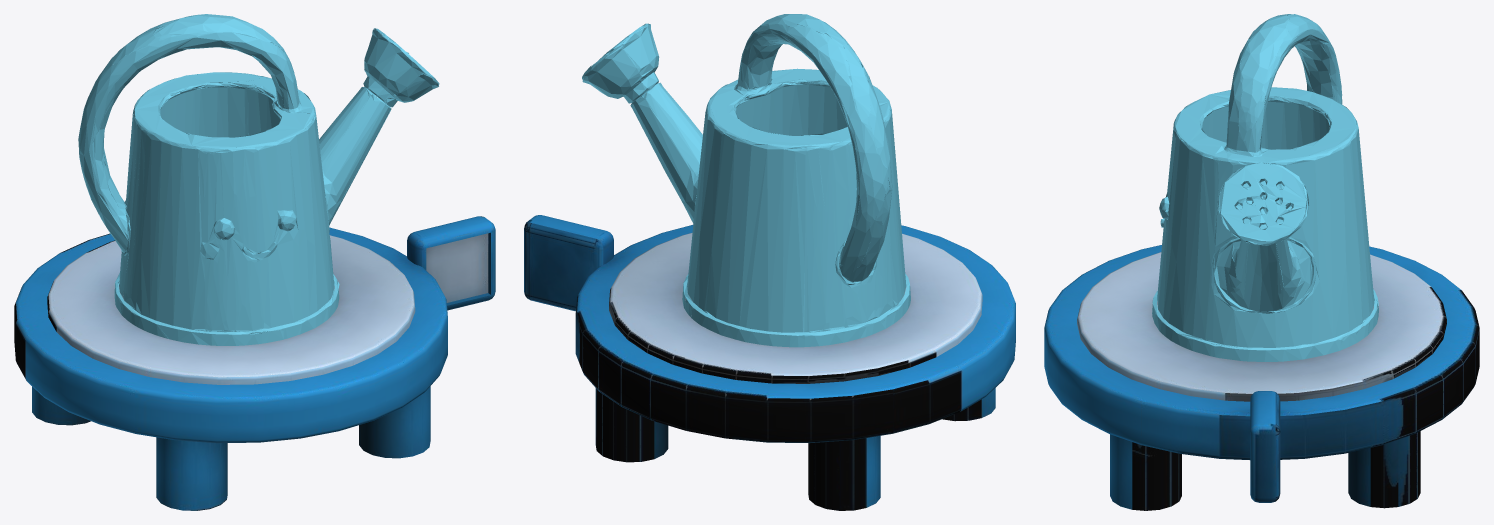
Rendered from regadrae.glb.
3 views of the same model, side by side, from view 1: azimuth 30°, elevation 25°; view 2: azimuth 150°, elevation 25°; view 3: azimuth 270°, elevation 25° (orthographic).
Parts seen in each view (by area): view 1: Cylinder002; view 2: Cylinder002; view 3: Cylinder002.
Part boxes in pixels (x1,y1,x2,y2): Cylinder002: (14, 14, 495, 510); Cylinder002: (524, 14, 1015, 510); Cylinder002: (1044, 14, 1479, 510).
Size of the model in its own units: 0.9691 by 0.8428 by 0.8106.
Materials: 2 (1 with a texture image).
